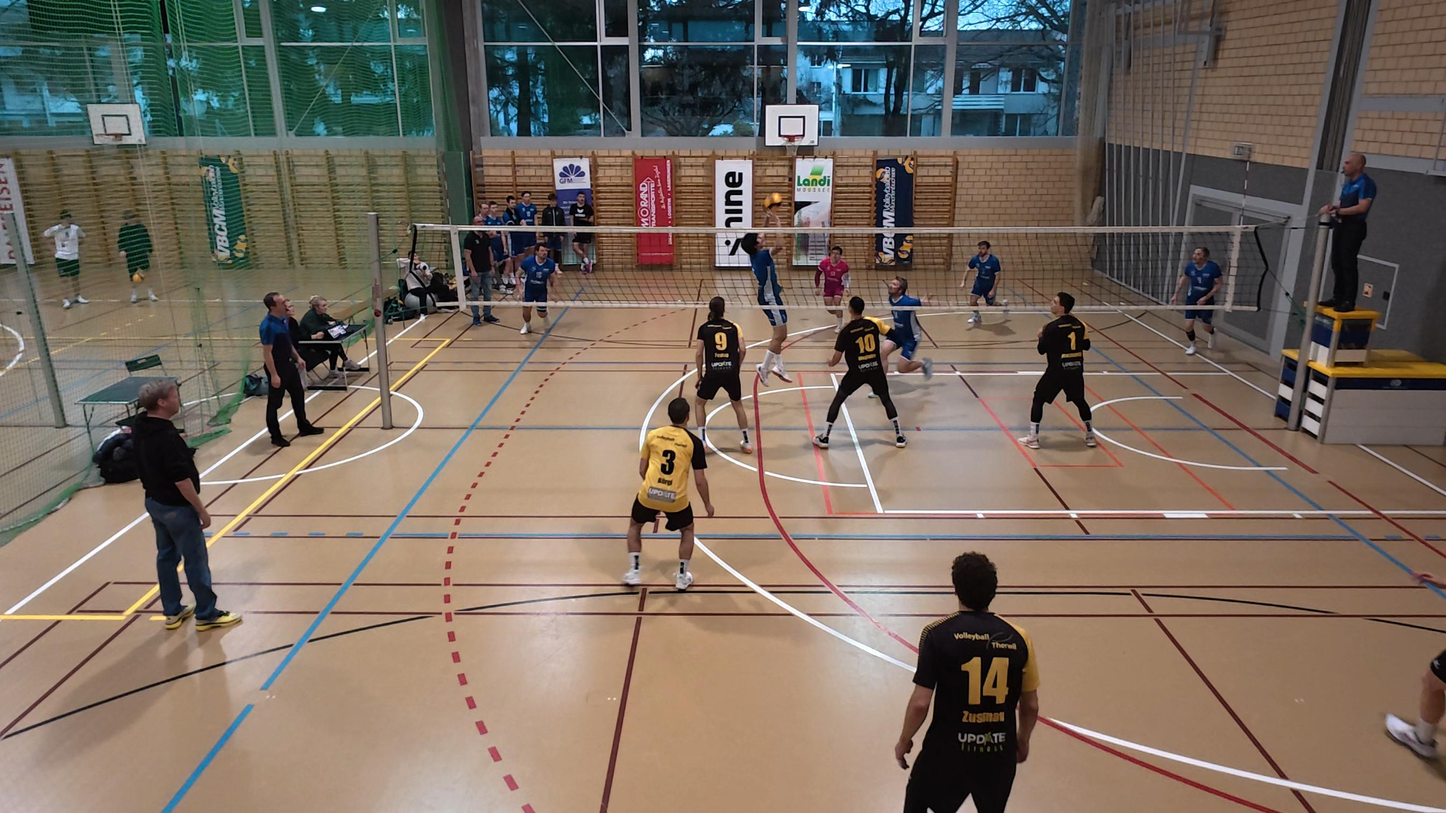Player: (896, 552, 1039, 813), (623, 396, 714, 591), (814, 295, 909, 448), (1020, 291, 1097, 448), (690, 296, 752, 451), (1386, 650, 1445, 762), (882, 276, 935, 383), (1176, 246, 1224, 355), (960, 240, 1010, 327), (516, 241, 558, 338), (814, 236, 853, 328)
Set: (735, 202, 797, 382)
ball: (765, 192, 782, 208)
